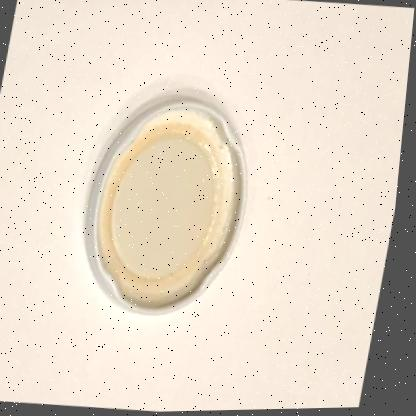Metal: (89, 100, 251, 317)
